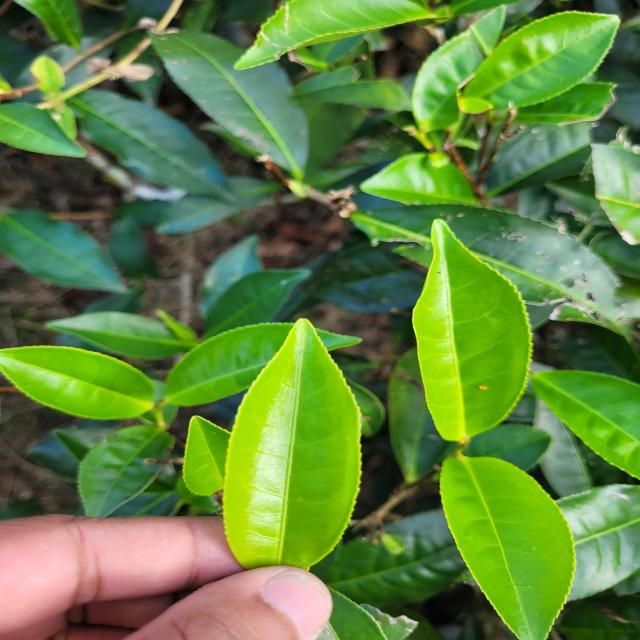Category B 2-4 days: (170, 288, 414, 608)
